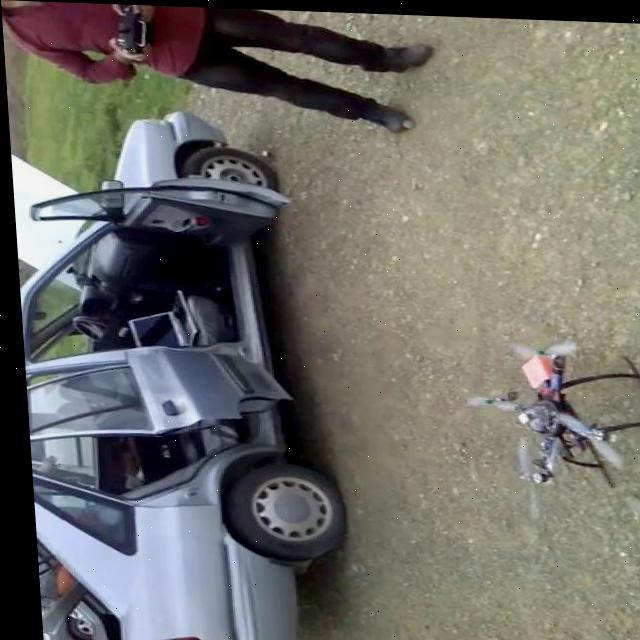drone: (454, 336, 640, 490)
